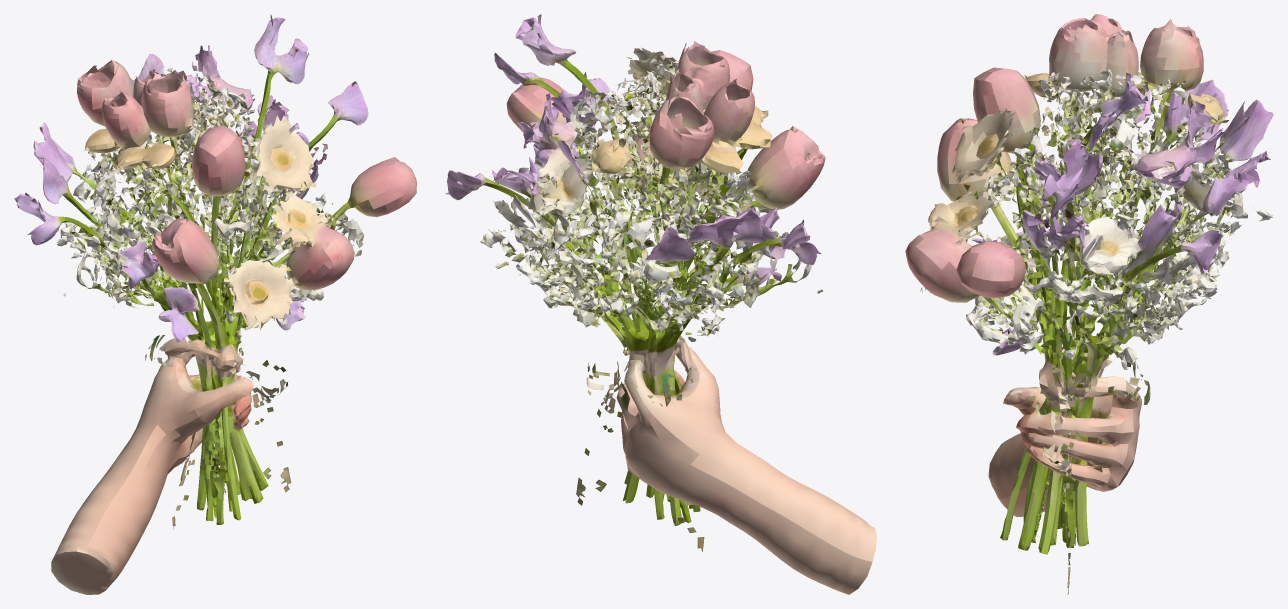
The picture shows the model from 3 angles, left to right: view 1: azimuth 30°, elevation 25°; view 2: azimuth 150°, elevation 25°; view 3: azimuth 270°, elevation 25°; orthographic projection. The views are drawn at different scales.
Bounding box in the file's own units: 1.38 × 1.89 × 1.1.
Materials: 1 (1 with a texture image).
